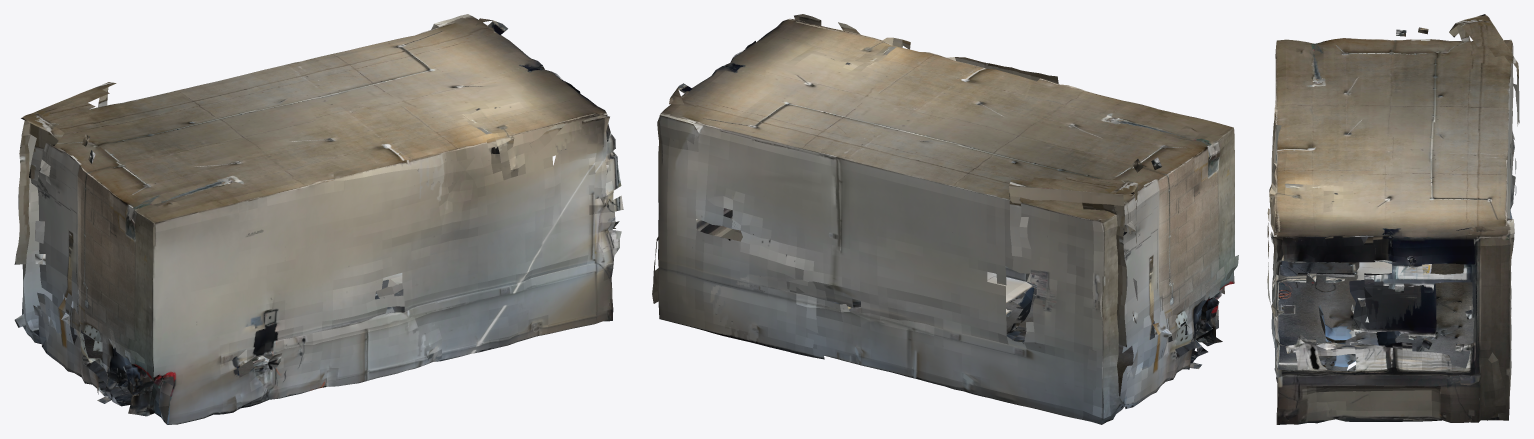
3 views of the same model, side by side, from view 1: azimuth 30°, elevation 25°; view 2: azimuth 150°, elevation 25°; view 3: azimuth 270°, elevation 25° (orthographic). The views are drawn at different scales.
Visible parts, largest first — view 1: 1_m103-IM; view 2: 1_m103-IM; view 3: 1_m103-IM.
Part boxes in pixels (<box>): 1_m103-IM: <box>14,14,623,424</box>; 1_m103-IM: <box>652,14,1238,424</box>; 1_m103-IM: <box>1267,14,1519,424</box>.
Bounding box in the file's own units: 765 × 355 × 389.
Materials: 1 (1 with a texture image).
